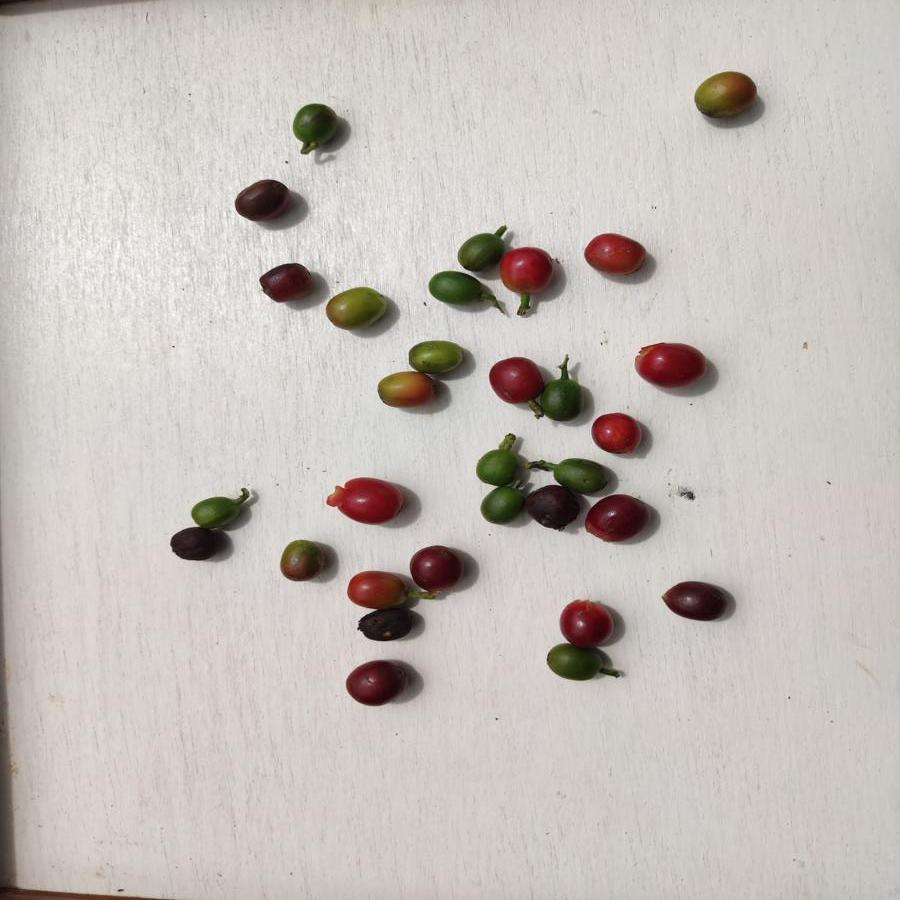Inmaduro: (426, 268, 485, 307), (546, 644, 604, 683), (190, 489, 248, 528), (290, 103, 338, 150), (454, 231, 504, 275), (554, 458, 609, 495), (541, 379, 585, 424), (476, 444, 519, 486), (480, 483, 524, 523)
Maduro: (326, 476, 406, 526), (633, 341, 707, 392), (557, 595, 620, 645), (582, 232, 648, 275), (498, 247, 556, 293), (487, 354, 541, 403), (587, 411, 643, 456), (346, 569, 412, 604)
Pinton: (688, 65, 762, 124), (322, 286, 389, 330), (376, 368, 441, 410), (404, 340, 465, 377), (279, 538, 326, 584)
Sobremaduro: (585, 492, 650, 542), (344, 659, 410, 708), (659, 579, 729, 625), (230, 180, 293, 222), (408, 544, 462, 591), (526, 486, 580, 529), (259, 261, 314, 303), (357, 605, 416, 643), (169, 529, 225, 564)
